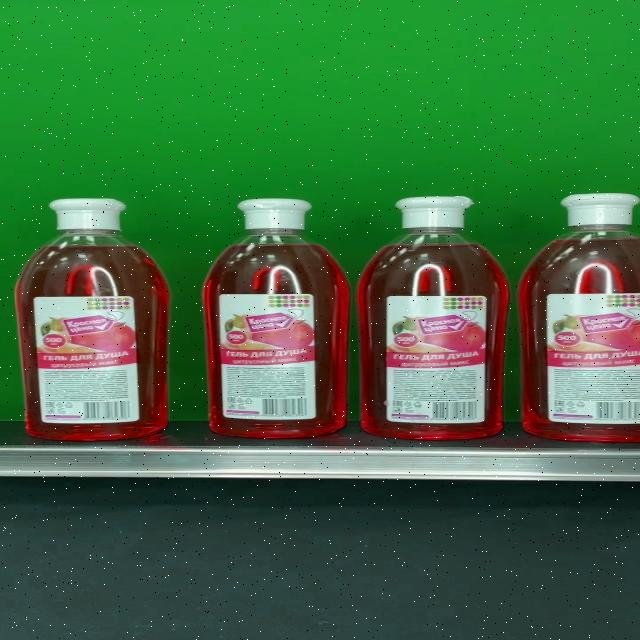Bottle: (356, 195, 509, 441), (16, 198, 169, 441), (203, 198, 349, 438), (518, 193, 640, 442)
Cap: (396, 195, 476, 229), (49, 198, 128, 231), (560, 194, 640, 226), (238, 198, 313, 230)
